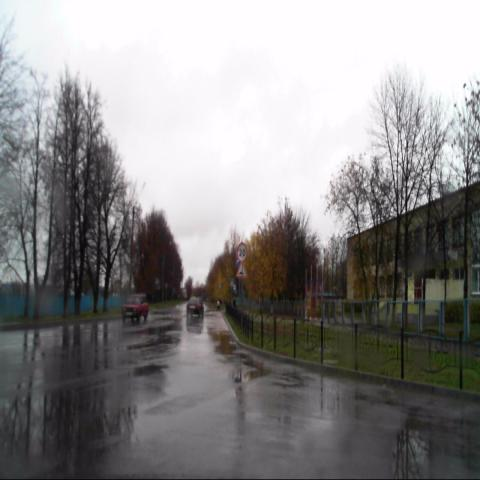3_24: (236, 241, 248, 262)
